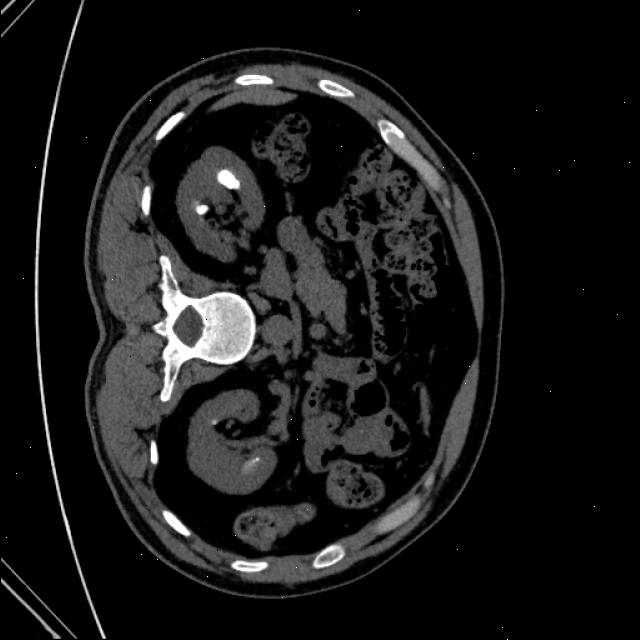kidneystone: (216, 169, 239, 189), (196, 204, 208, 215)
